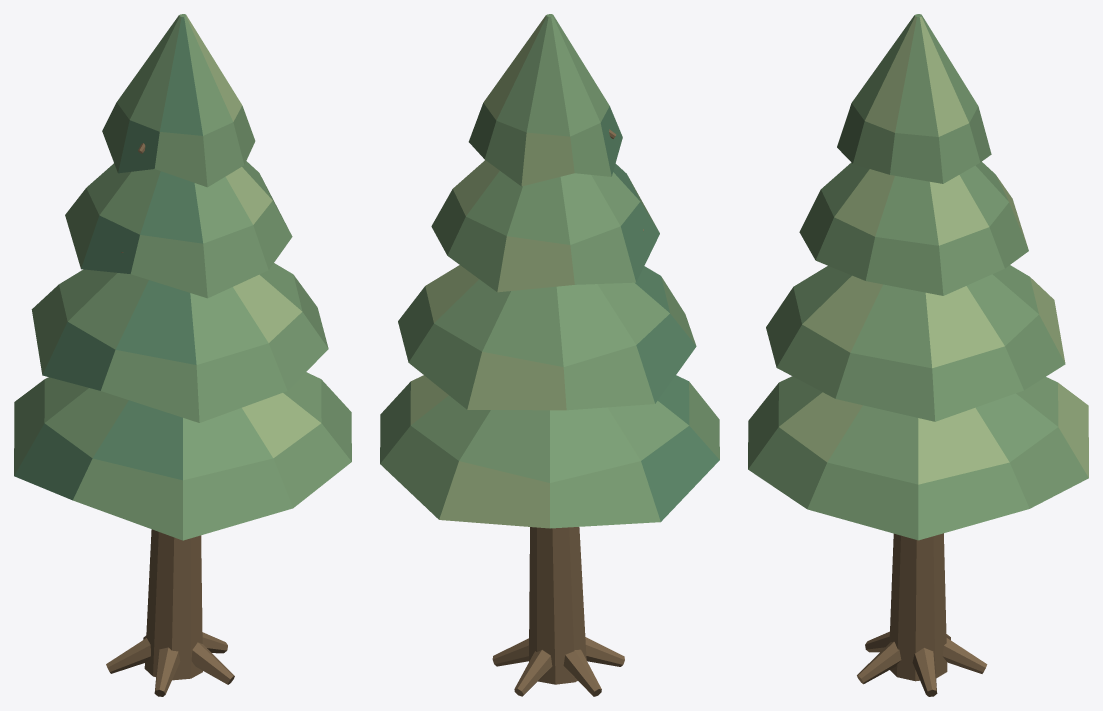
The model's file is tree_coastal_pine.glb.
3 views of the same model, side by side, from view 1: azimuth 30°, elevation 25°; view 2: azimuth 150°, elevation 25°; view 3: azimuth 270°, elevation 25° (orthographic).
Visible parts, largest first — view 1: tree_coastal_pine; view 2: tree_coastal_pine; view 3: tree_coastal_pine.
Part boxes in pixels (<box>): tree_coastal_pine: <box>14,14,351,696</box>; tree_coastal_pine: <box>380,14,719,696</box>; tree_coastal_pine: <box>748,14,1088,696</box>.
Bounding box in the file's own units: 2.15 × 4.35 × 2.04.
